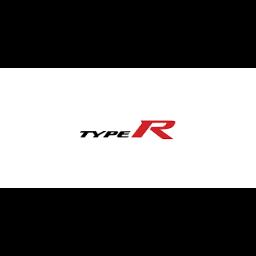r: (132, 116, 176, 146)
